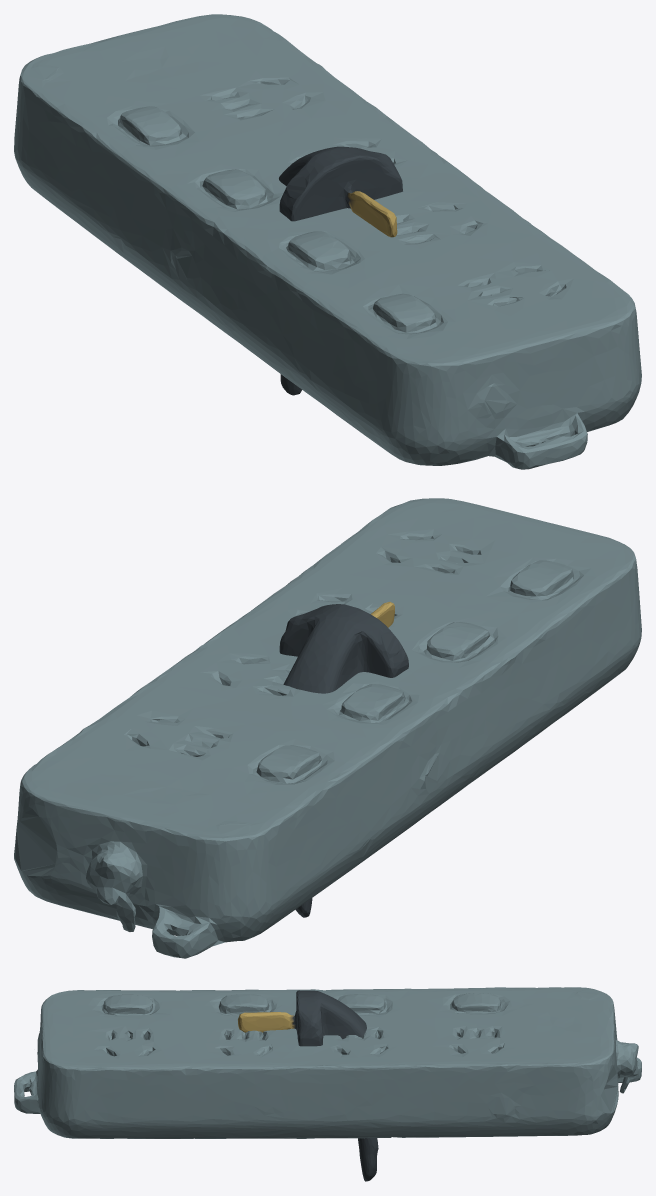
The picture shows the model from 3 angles, top to bottom: view 1: azimuth 30°, elevation 25°; view 2: azimuth 150°, elevation 25°; view 3: azimuth 270°, elevation 25°; orthographic projection. The views are drawn at different scales.
Visible parts, largest first — view 1: world; view 2: world; view 3: world.
Part boxes in pixels (<box>): world: <box>14,14,641,469</box>; world: <box>14,498,641,958</box>; world: <box>14,987,641,1181</box>.
Size of the model in its own units: 0.072 by 0.0747 by 0.2265.
